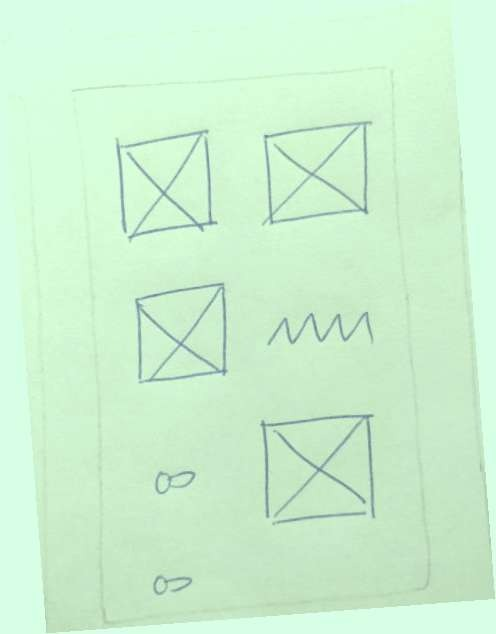image: (248, 402, 389, 539), (248, 111, 387, 238), (102, 124, 227, 243), (123, 276, 238, 390)
switch: (135, 455, 210, 505), (138, 558, 208, 605)
text: (252, 294, 387, 362)
